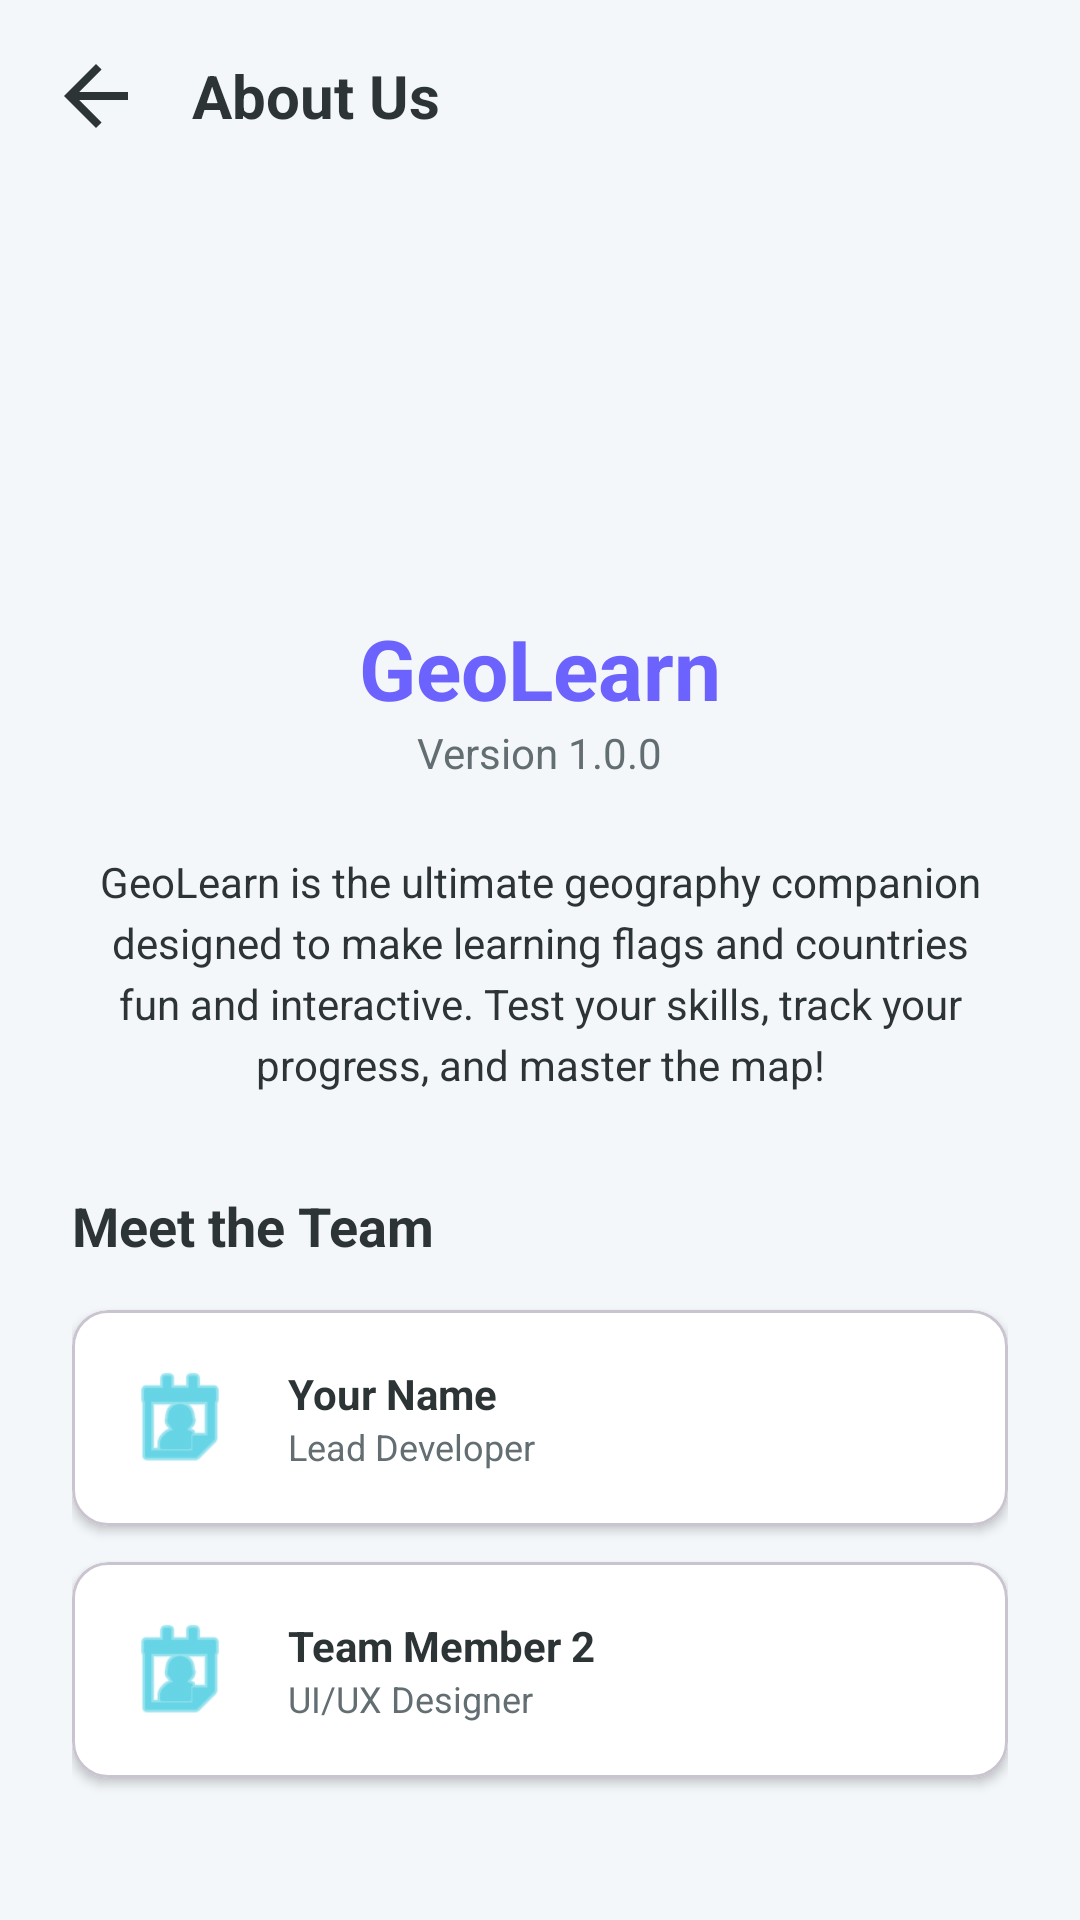

Where to tap for icons on this 1080x1920 app screen, as (x=x, y=y):
calendar: (x=180, y=1417), (x=180, y=1669)
